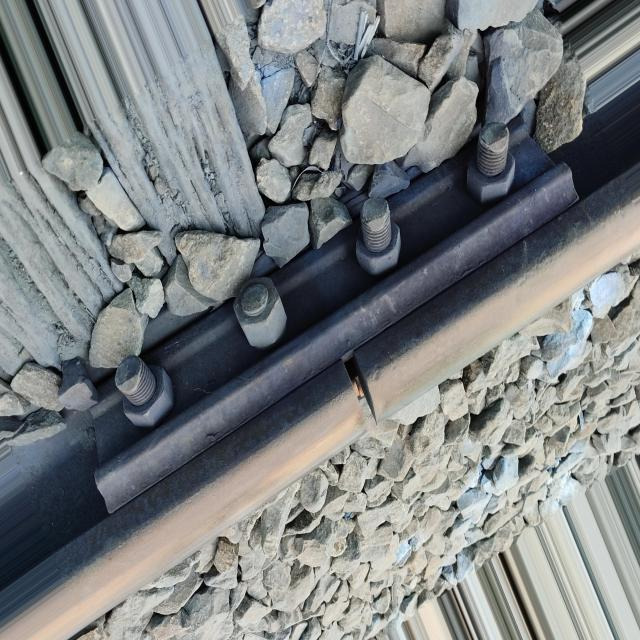Good Joint: (81, 116, 589, 534)
